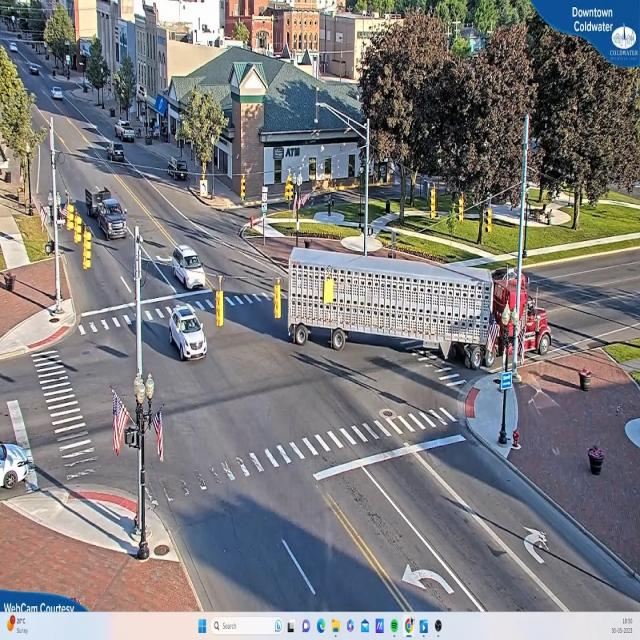car: (164, 302, 208, 360), (1, 444, 40, 492), (172, 243, 208, 290), (100, 197, 130, 240), (112, 142, 126, 159)
truck: (289, 250, 554, 357)
